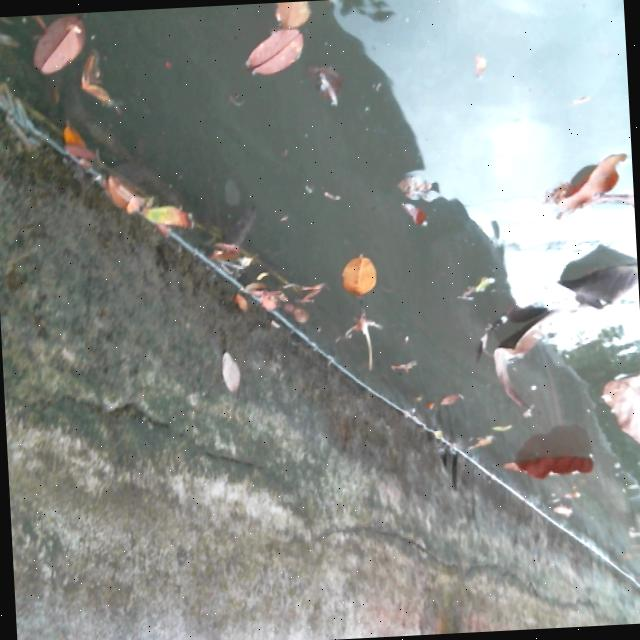Big-leaf: (473, 233, 640, 415), (527, 140, 636, 234), (591, 363, 640, 454), (502, 450, 592, 480)
Small-leaf: (24, 12, 83, 85), (238, 25, 303, 81), (336, 227, 383, 296), (77, 41, 119, 116), (365, 160, 441, 199), (135, 195, 199, 241), (50, 116, 97, 174), (258, 0, 318, 36), (100, 171, 139, 218), (311, 58, 342, 116), (535, 488, 565, 519), (402, 203, 432, 232), (442, 387, 468, 411)
